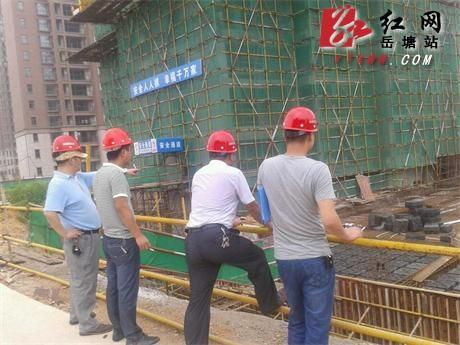helmet: (278, 102, 322, 157), (49, 133, 85, 175), (100, 126, 135, 165), (205, 128, 238, 167)
